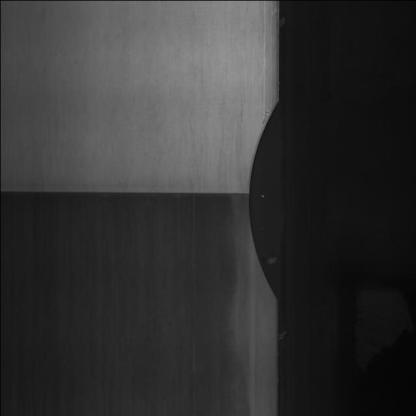crescent_gap: (244, 93, 282, 304)
welding_line: (2, 182, 248, 203)
